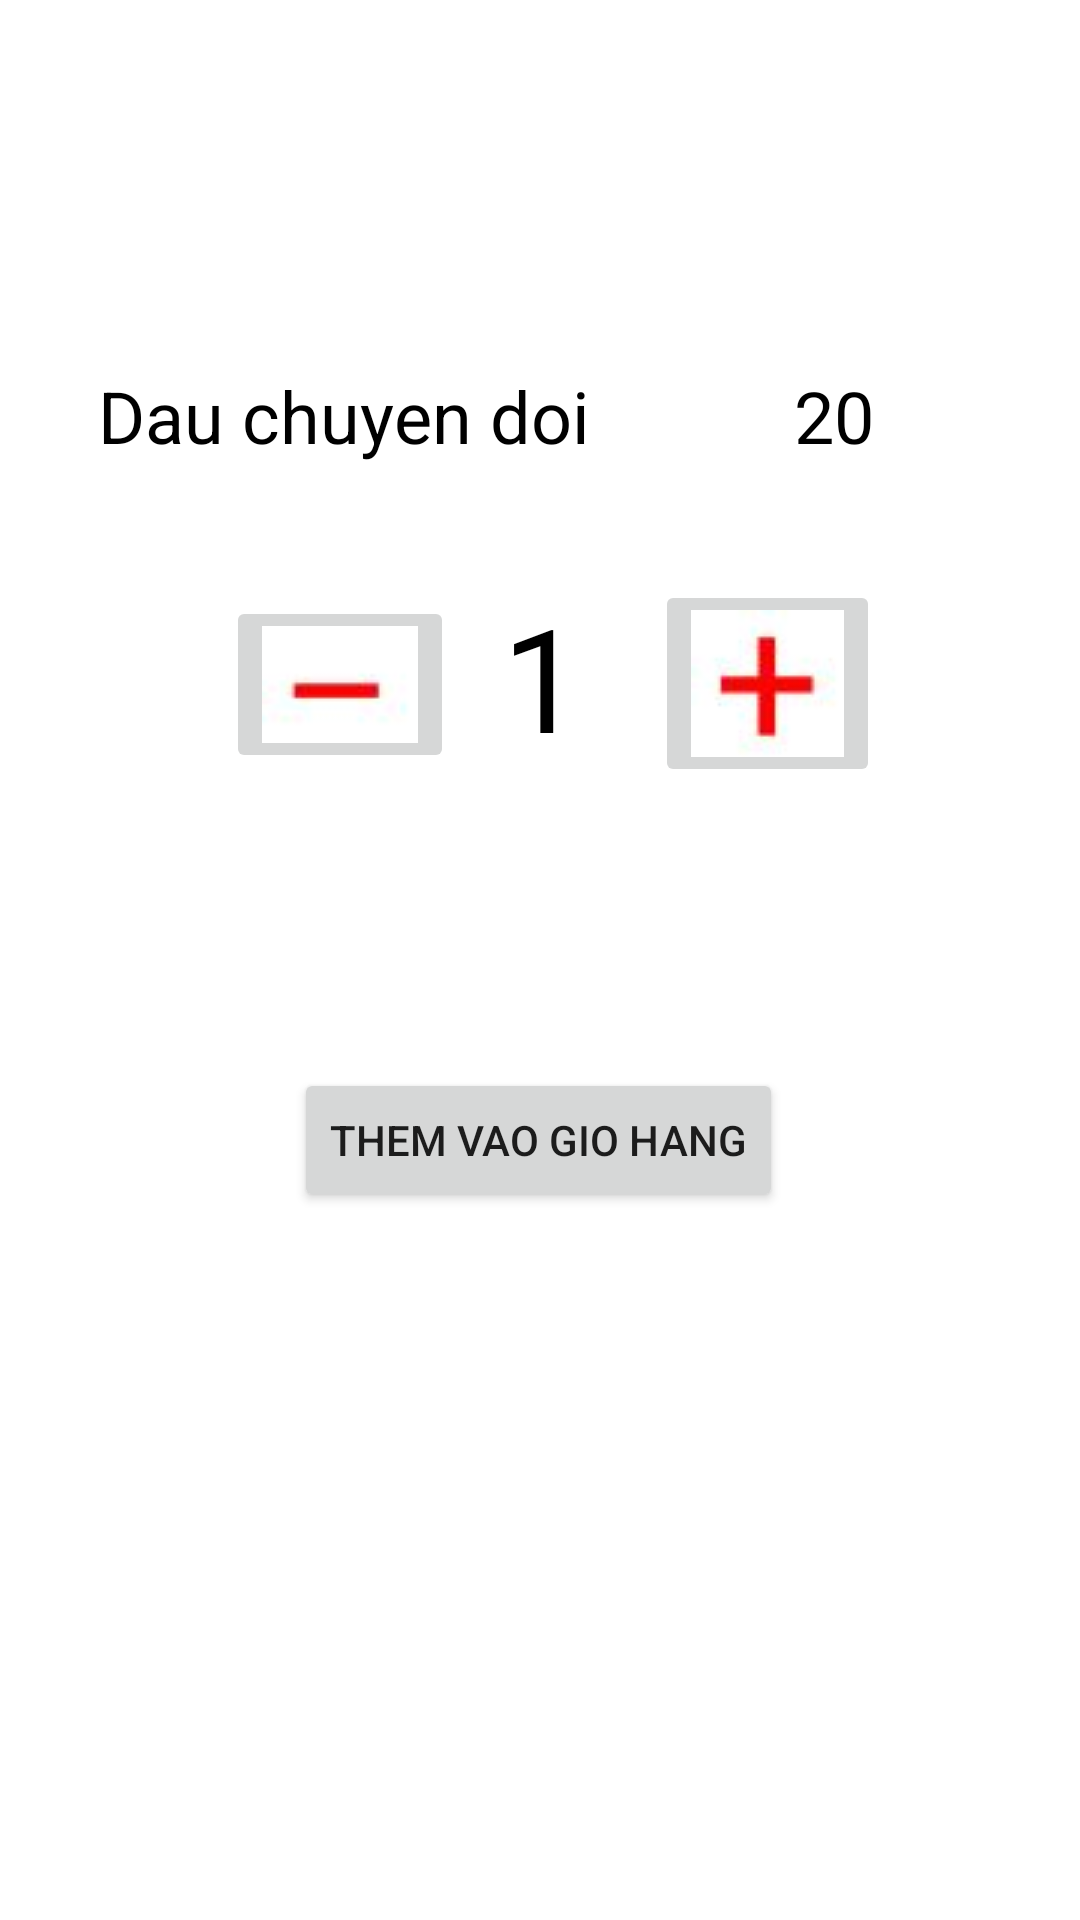

Named icons in this screenshot (1080px×1920px) and their centers, (x=x, y=y):
daucong: (x=767, y=683)
dautru: (x=340, y=684)
